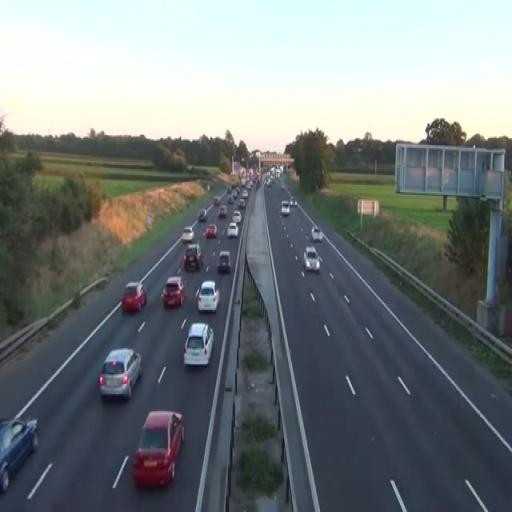Car: (132, 410, 186, 488), (0, 417, 38, 495), (98, 347, 142, 401), (184, 323, 214, 368), (121, 281, 148, 312), (196, 280, 220, 314), (161, 277, 187, 308), (183, 244, 204, 272), (304, 245, 320, 274), (217, 251, 232, 274)
